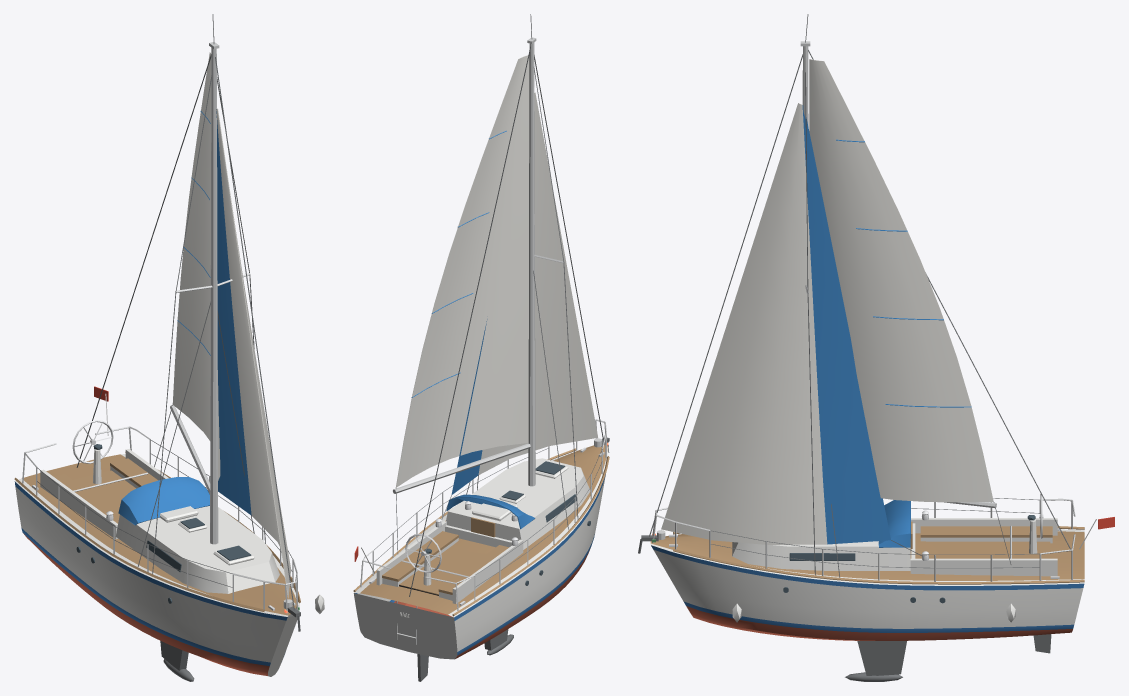
Rendered from yacht_sail.glb.
The picture shows the model from 3 angles, left to right: view 1: azimuth 30°, elevation 25°; view 2: azimuth 150°, elevation 25°; view 3: azimuth 270°, elevation 25°; orthographic projection. The views are drawn at different scales.
Visible parts, largest first — view 1: yacht_sail_body; view 2: yacht_sail_body; view 3: yacht_sail_body.
Part boxes in pixels (left/top/right/bottom): yacht_sail_body: left=14, top=14, right=324, bottom=681; yacht_sail_body: left=353, top=14, right=609, bottom=681; yacht_sail_body: left=638, top=14, right=1114, bottom=681.
Size of what is drawn, in the model's own units: 3.25 by 15.05 by 9.75.
